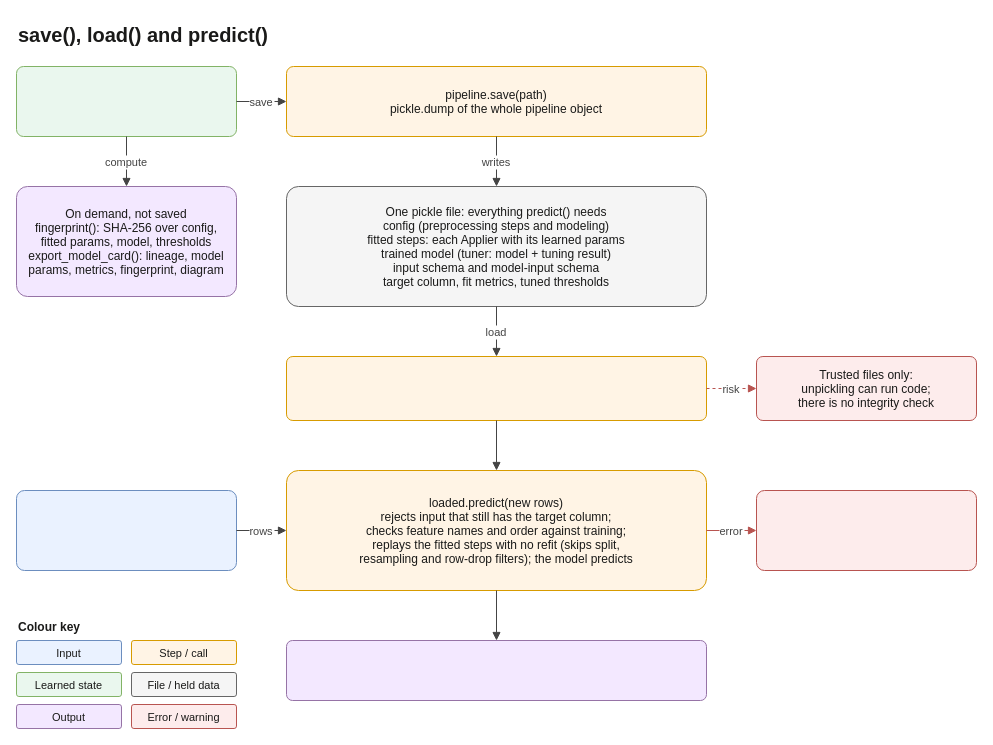
Some shapes in this 993 by 745 pixel diagram are drawn without their labels. Here are the shapes that lost their labels. From the top down, the centre of each, then its label:
(x=126, y=101): Fitted SkyulfPipeline after a successful fit()
(x=496, y=388): SkyulfPipeline.load(path) pickle.load returns the pickled pipeline object
(x=126, y=530): New rows same feature columns, no target column
(x=866, y=530): ValueError or SchemaMismatchError (also if a step changes the row count)
(x=496, y=670): Predictions, one per input row encoded class labels decoded to the originals
